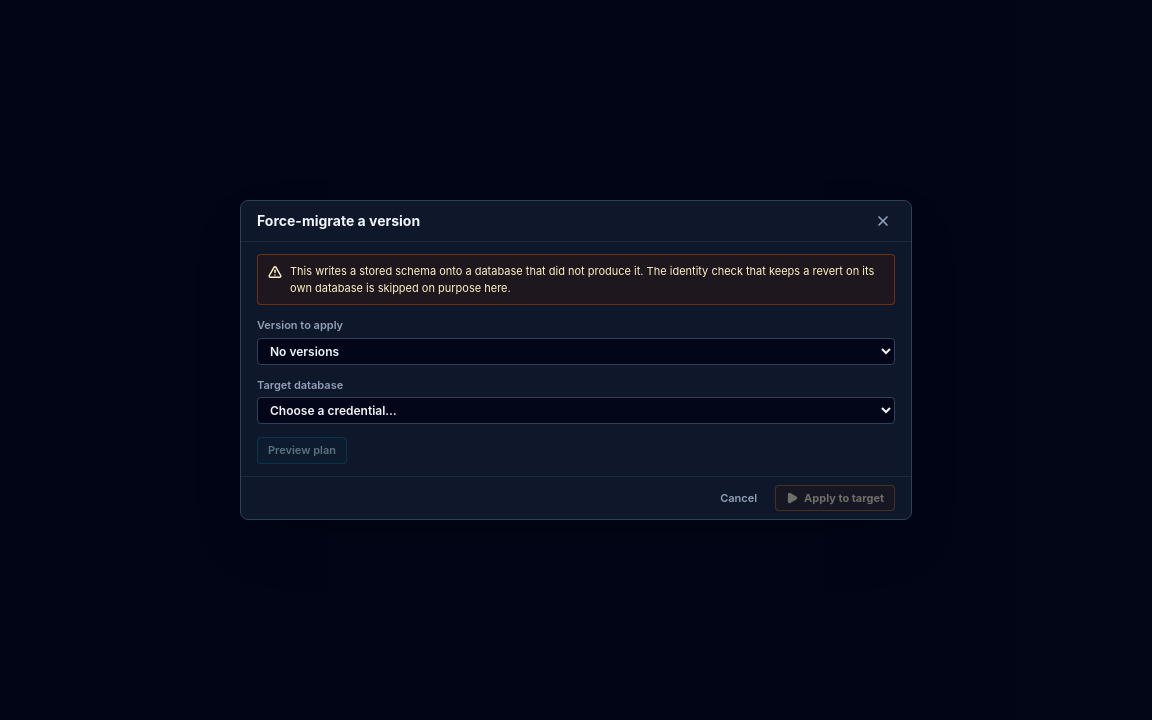
Test: ForceMigrateModal › keeps Apply disabled until the force acknowledgement is ticked, even on a safe plan
The width and height of the screenshot is (1152, 720).
Check: the dropdown with test id "force-migrate-version" is shown, box [257,338,895,364]
Select "staging [postgres] · shop_staging" in the dropdown with test id "force-migrate-target" at (576, 410), box [257,397,895,424]
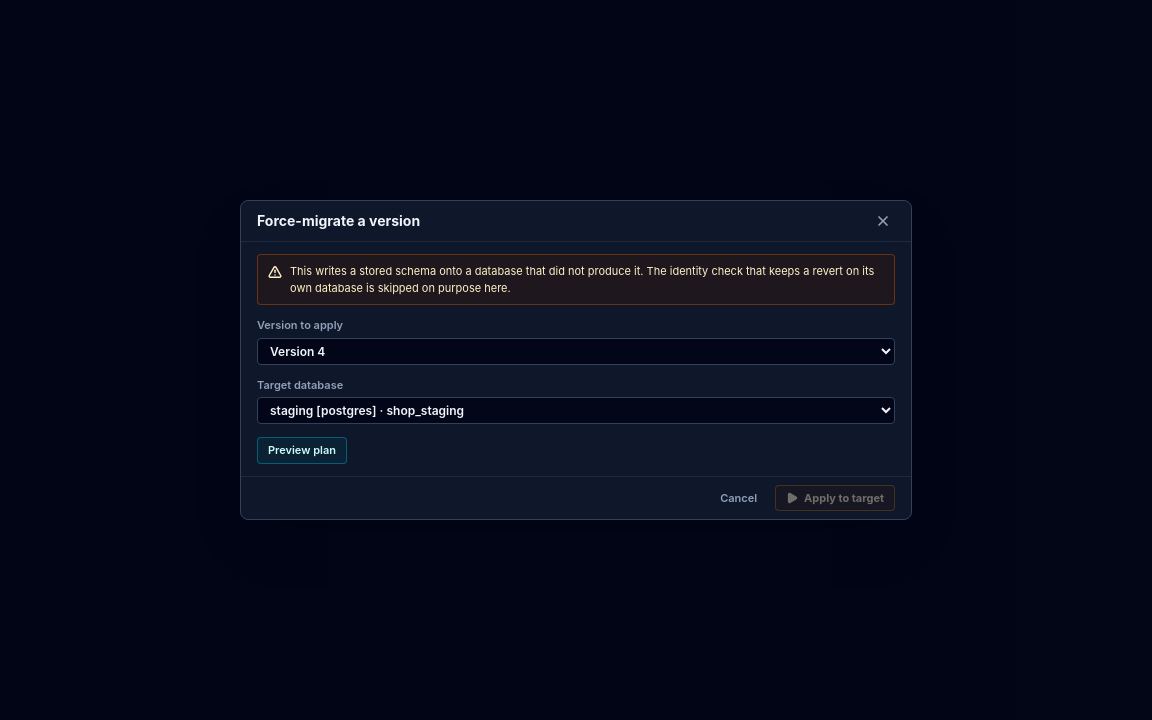
Click the button with test id "force-migrate-preview" at (302, 450), box [257,437,347,464]
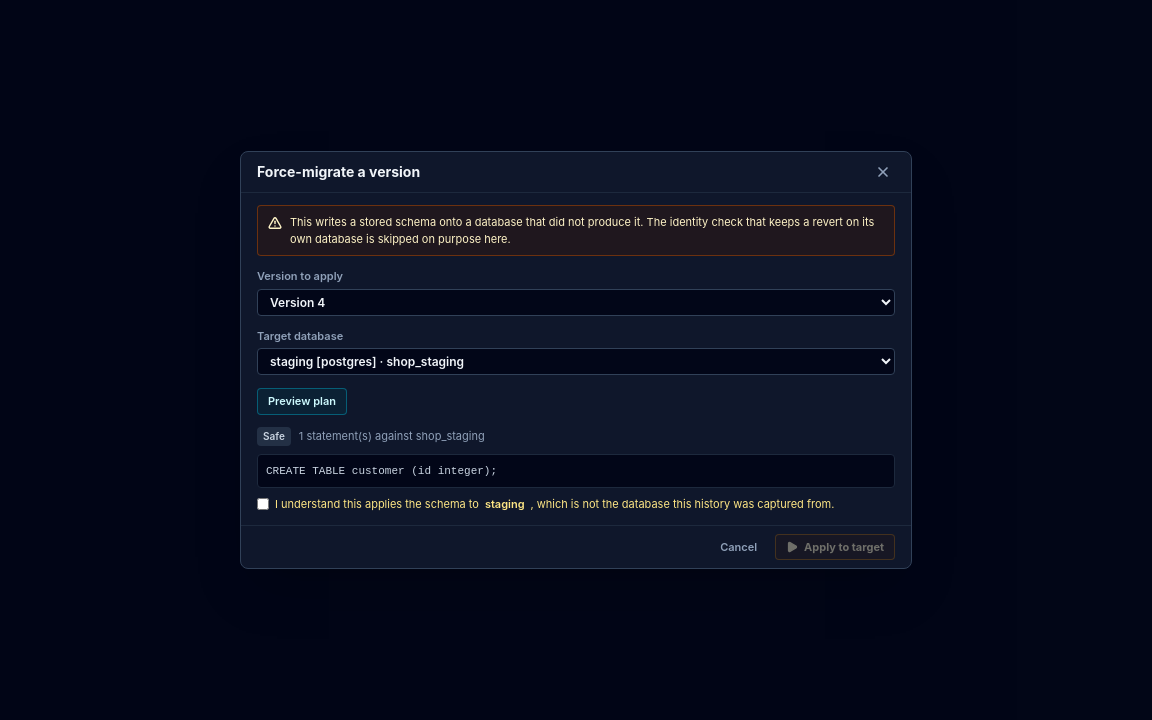
Check: the button with test id "force-migrate-apply" is disabled, box [775,534,895,560]
Check: the text "Safe" is shown, box [257,426,291,446]
Click the checkbox with test id "force-migrate-confirm-force" at (263, 504), box [257,498,269,510]
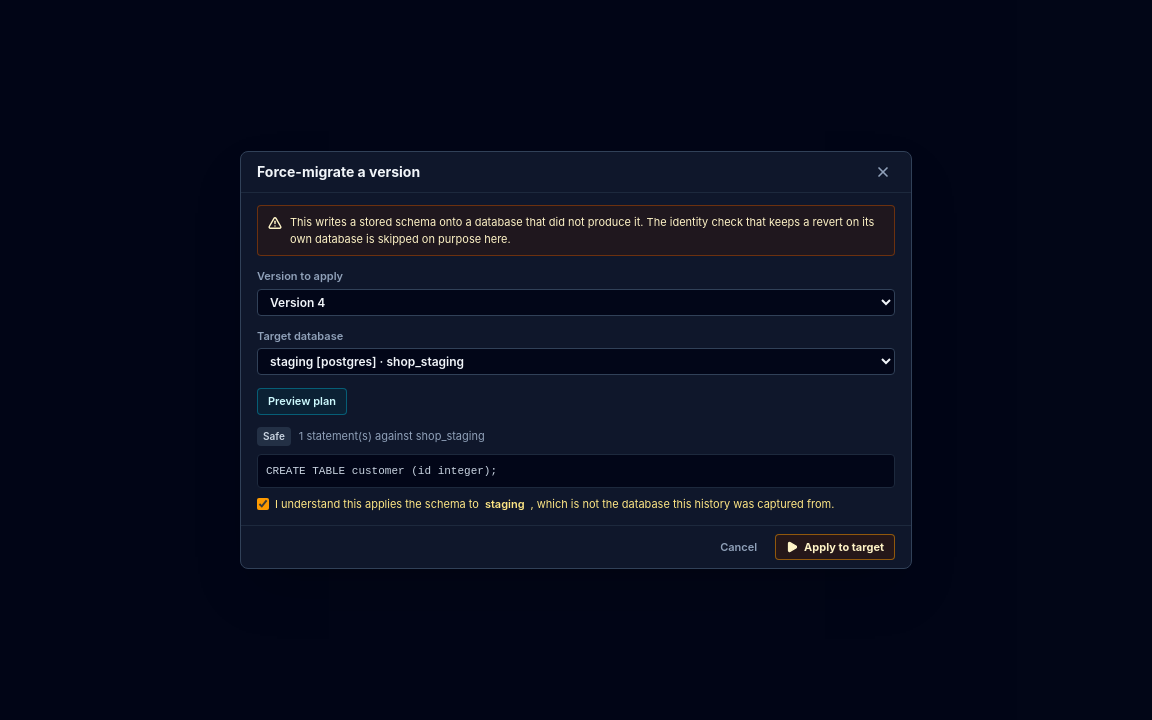
Check: the button with test id "force-migrate-apply" is enabled, box [775,534,895,560]
